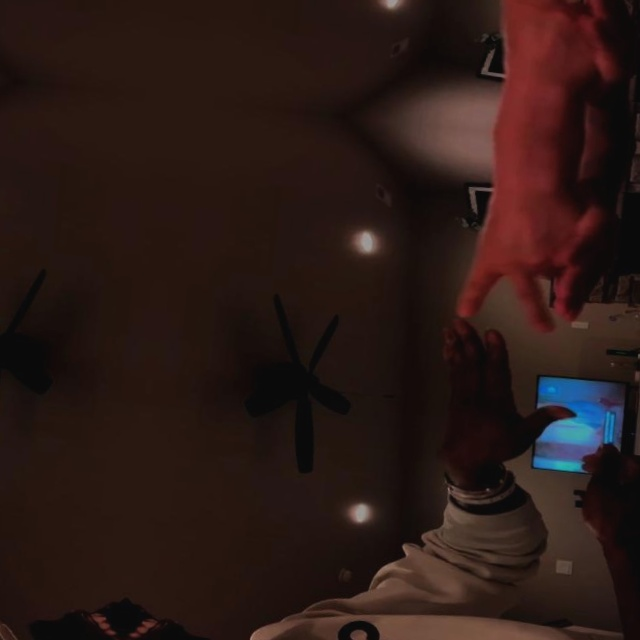Paper: (423, 317, 587, 487)
Scissors: (450, 173, 587, 334)
